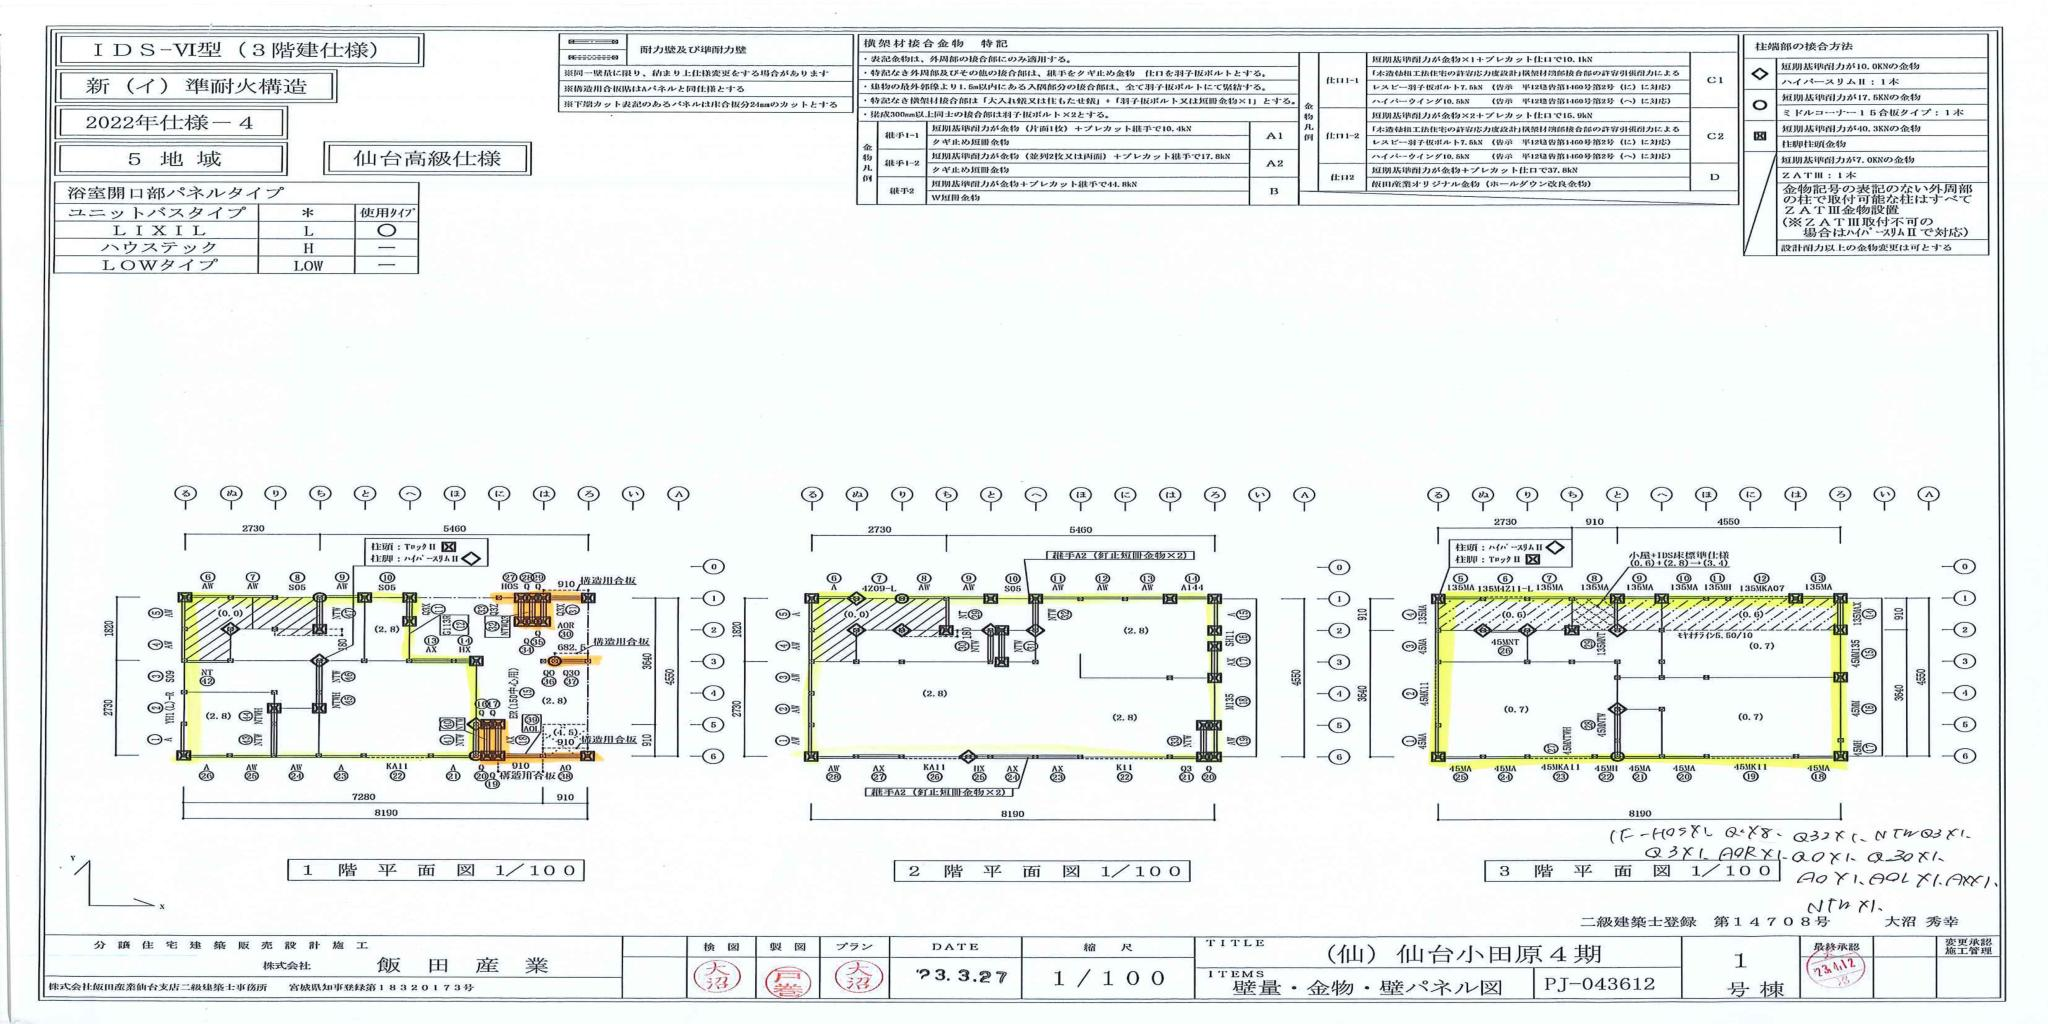CAD: (772, 570, 1262, 785), (142, 568, 611, 791), (1398, 571, 1878, 784)
